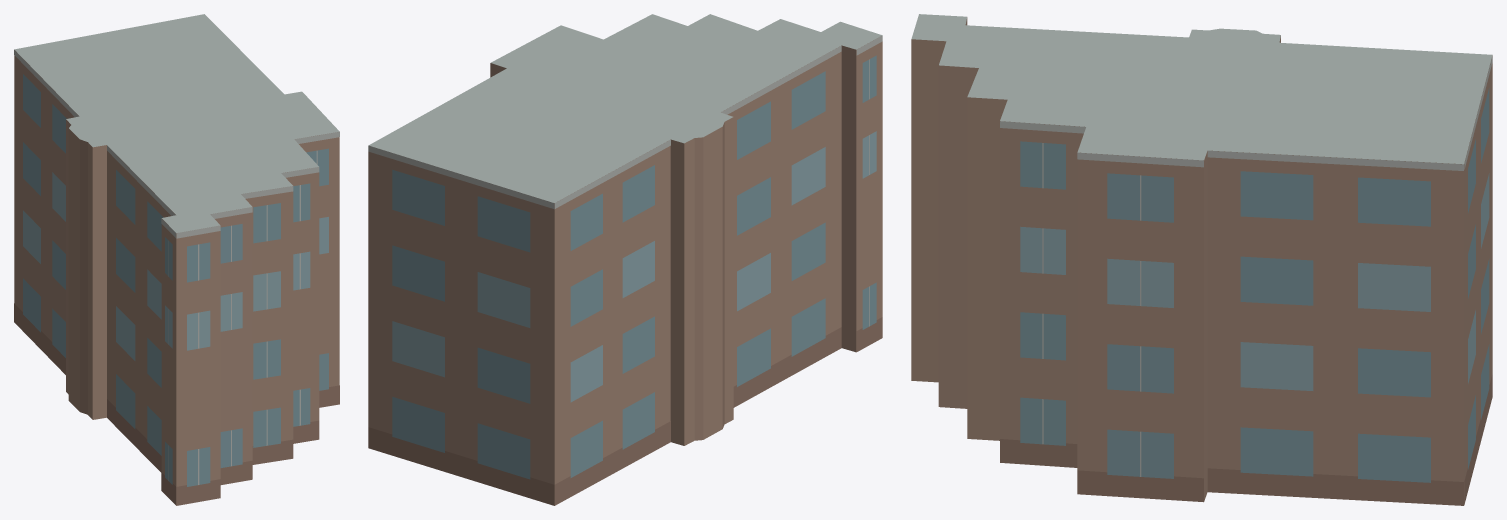
The model's file is survey-upis-32808466.glb.
The picture shows the model from 3 angles, left to right: view 1: azimuth 30°, elevation 25°; view 2: azimuth 150°, elevation 25°; view 3: azimuth 270°, elevation 25°; orthographic projection. The views are drawn at different scales.
Visible parts, largest first — view 1: survey-upis-32808466.tmp; view 2: survey-upis-32808466.tmp; view 3: survey-upis-32808466.tmp.
Part boxes in pixels (x1,y1,x2,y2): survey-upis-32808466.tmp: (14, 14, 339, 505); survey-upis-32808466.tmp: (368, 14, 882, 505); survey-upis-32808466.tmp: (911, 14, 1492, 505).
Bounding box in the file's own units: 11.42 × 12.1 × 18.67.
